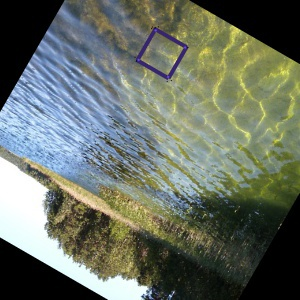square: (133, 26, 189, 84)
